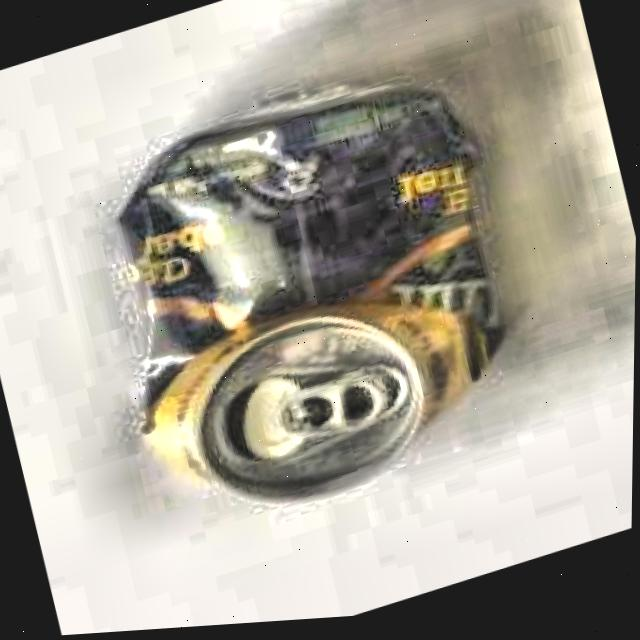metal: (109, 87, 503, 513)
